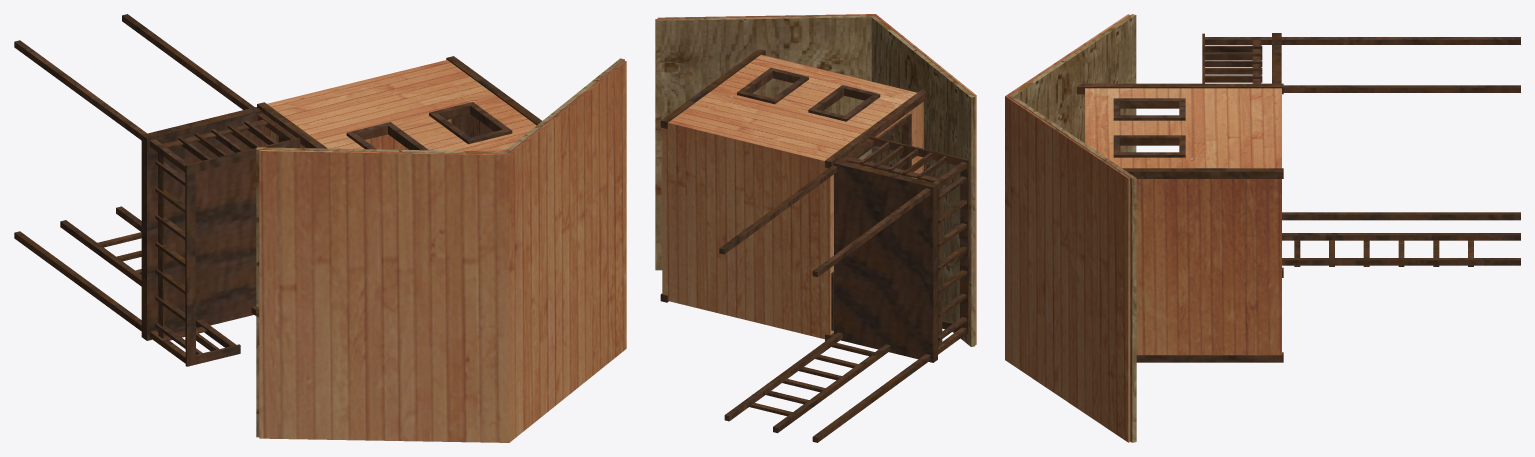
Rendered from 10783_TreeHouse_v7_LOD3.obj.
3 views of the same model, side by side, from view 1: azimuth 30°, elevation 25°; view 2: azimuth 150°, elevation 25°; view 3: azimuth 270°, elevation 25° (orthographic). The views are drawn at different scales.
Parts seen in each view (by area): view 1: TreeHouse; view 2: TreeHouse; view 3: TreeHouse.
Part boxes in pixels (x1,y1,x2,y2): TreeHouse: [14, 14, 626, 442]; TreeHouse: [655, 14, 976, 442]; TreeHouse: [1005, 14, 1520, 442].
Size of the model in its own units: 99.07 by 67.75 by 120.
1 material, 1 textured.
